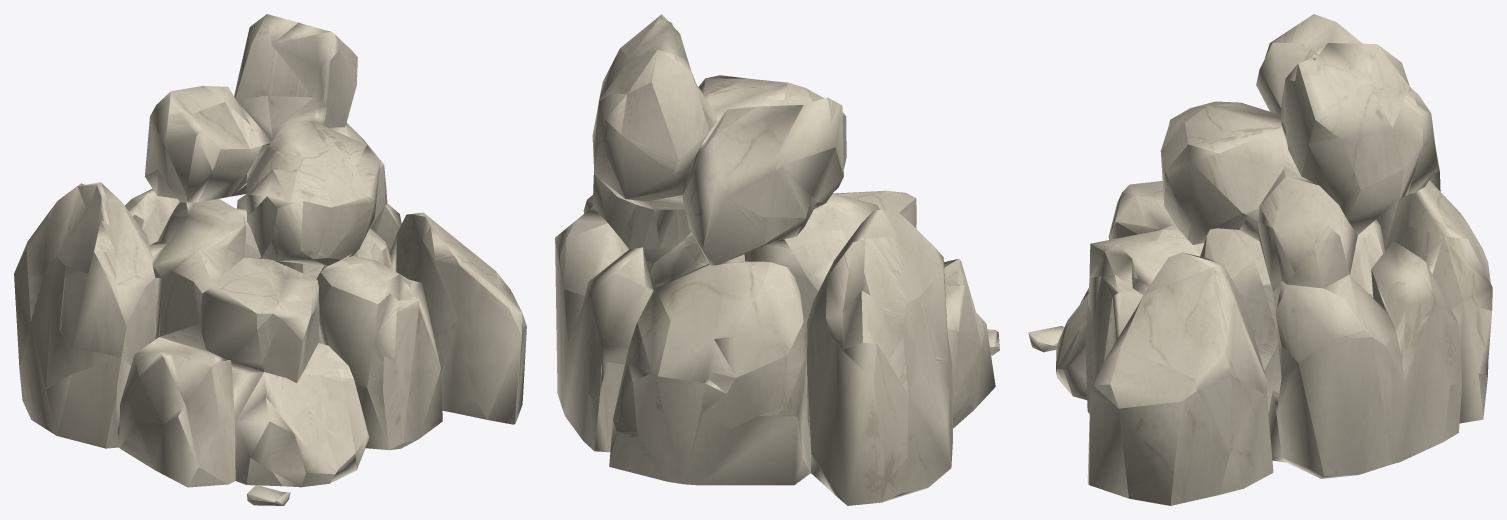
File: cover_half_plains_v6.glb
The picture shows the model from 3 angles, left to right: view 1: azimuth 30°, elevation 25°; view 2: azimuth 150°, elevation 25°; view 3: azimuth 270°, elevation 25°; orthographic projection. The views are drawn at different scales.
Parts seen in each view (by area): view 1: Mesh_0; view 2: Mesh_0; view 3: Mesh_0.
Boxes of the visible parts, x1,y1,x2,y2 form: Mesh_0: (14, 14, 526, 505); Mesh_0: (555, 14, 999, 505); Mesh_0: (1028, 14, 1492, 505).
Size of the model in its own units: 0.9426 by 0.7887 by 0.8637.
Materials: 1 (1 with a texture image).
